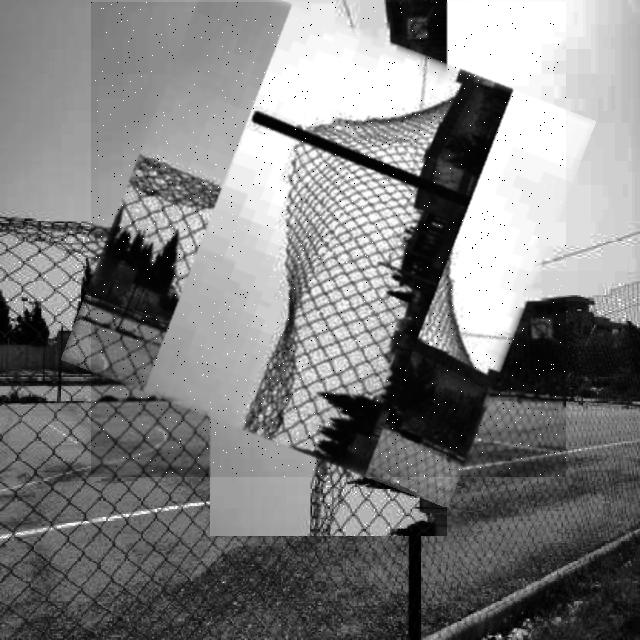anomaly-fence: (91, 2, 566, 477)
